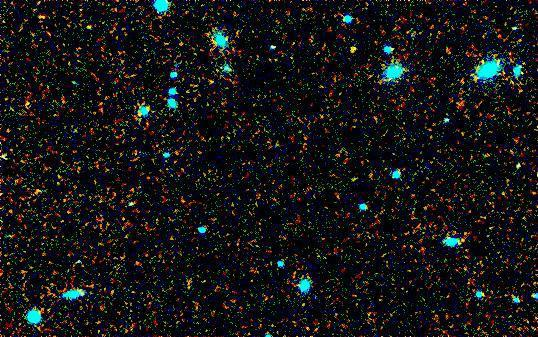star: (338, 35, 368, 65)
